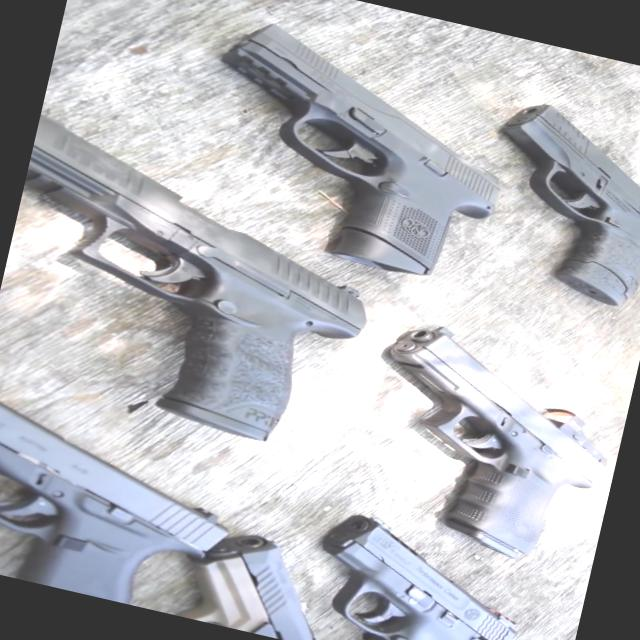handgun: (0, 101, 398, 465), (188, 6, 531, 308), (340, 312, 634, 595), (437, 78, 639, 331), (0, 382, 215, 615), (288, 500, 549, 639), (175, 509, 337, 639)
